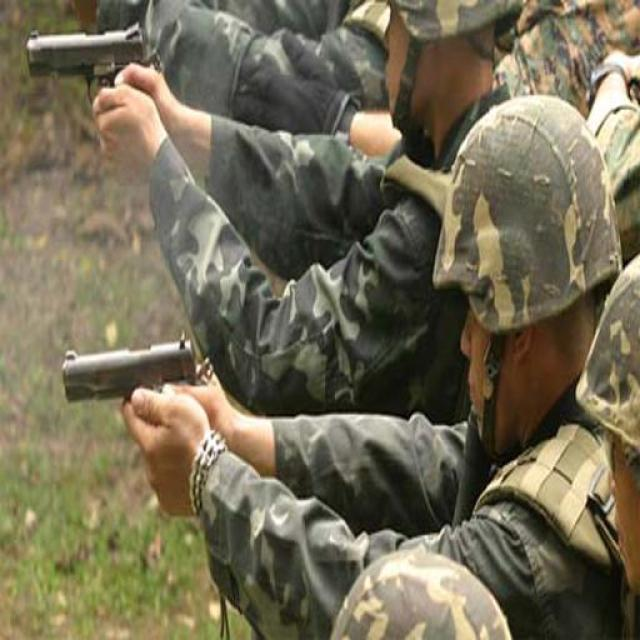pistol: (56, 332, 207, 476), (21, 11, 165, 117)
